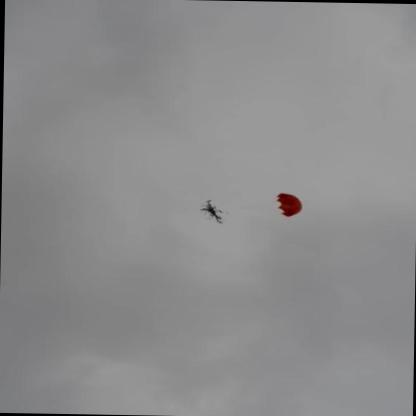drone: (194, 194, 231, 225)
